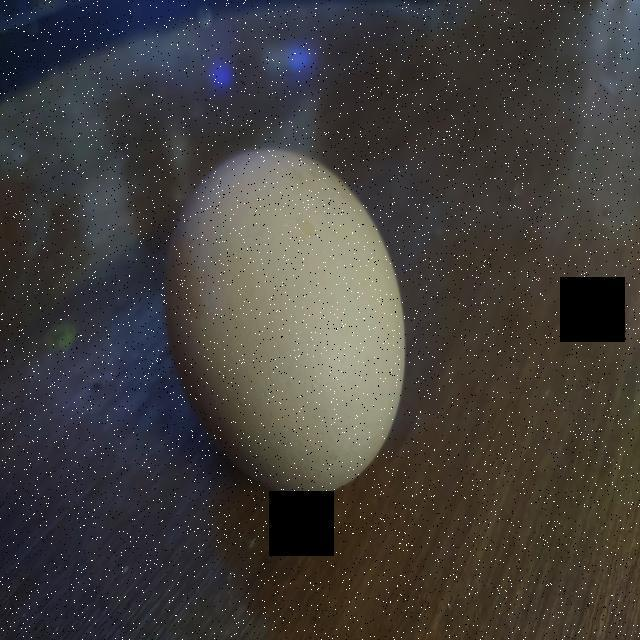egg: (158, 143, 416, 500)
